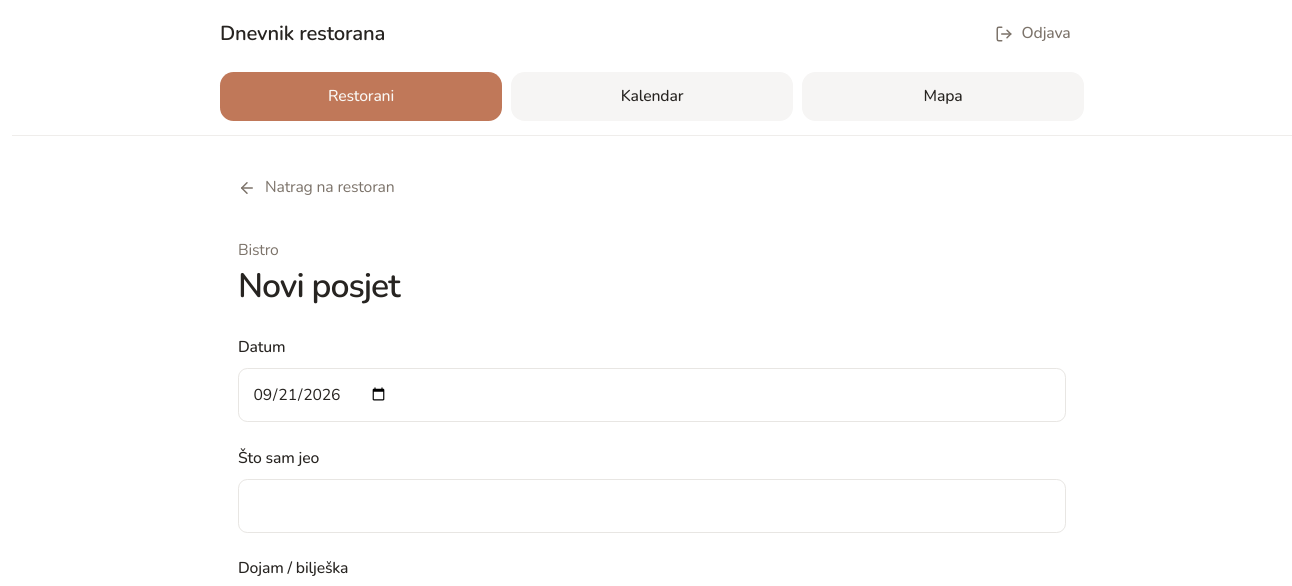
it: Restaurant V1 routes › validates the visit date in Croatian without sending a request
The image size is (1292, 586).
Clear the date field labelled "Datum" at (652, 395), box [238,368,1066,422]
(page scrolled)
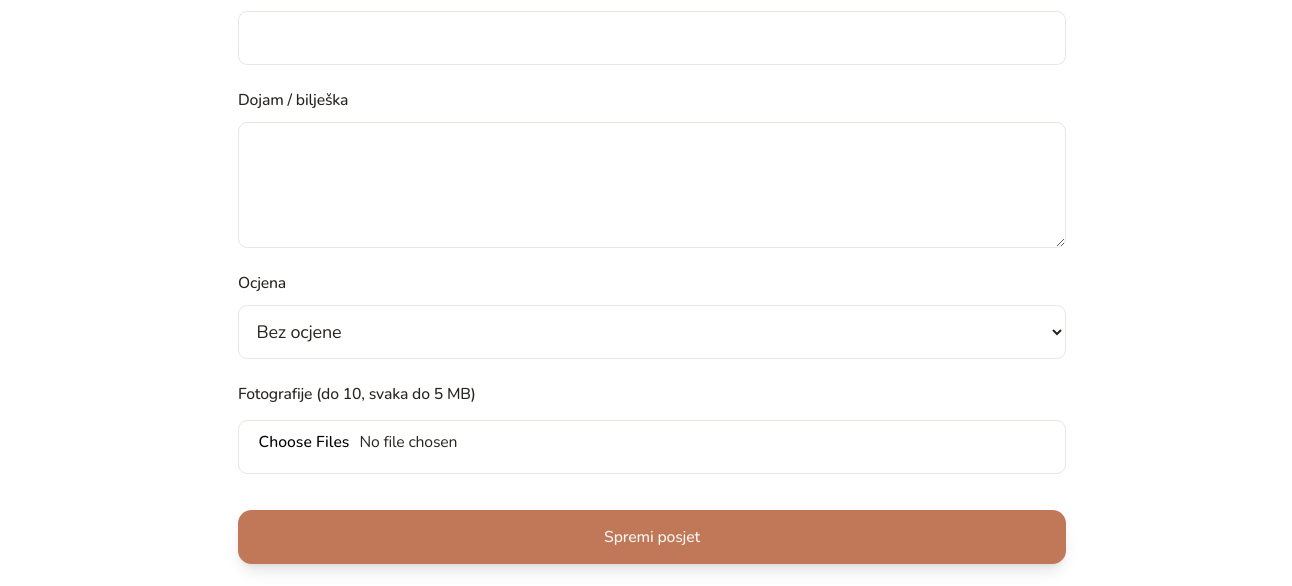
Click the button "Spremi posjet".
click(652, 537)  # box [238,510,1066,564]
(page scrolled)
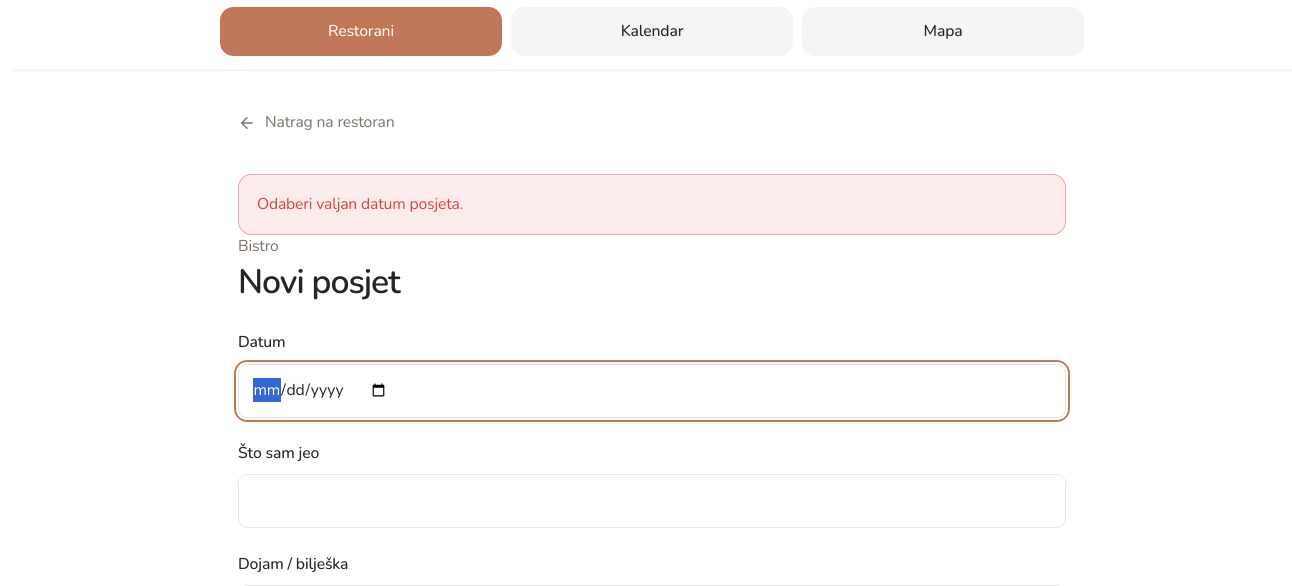
expect the message shows "Odaberi valjan datum posjeta": met, box [257,193,463,215]
